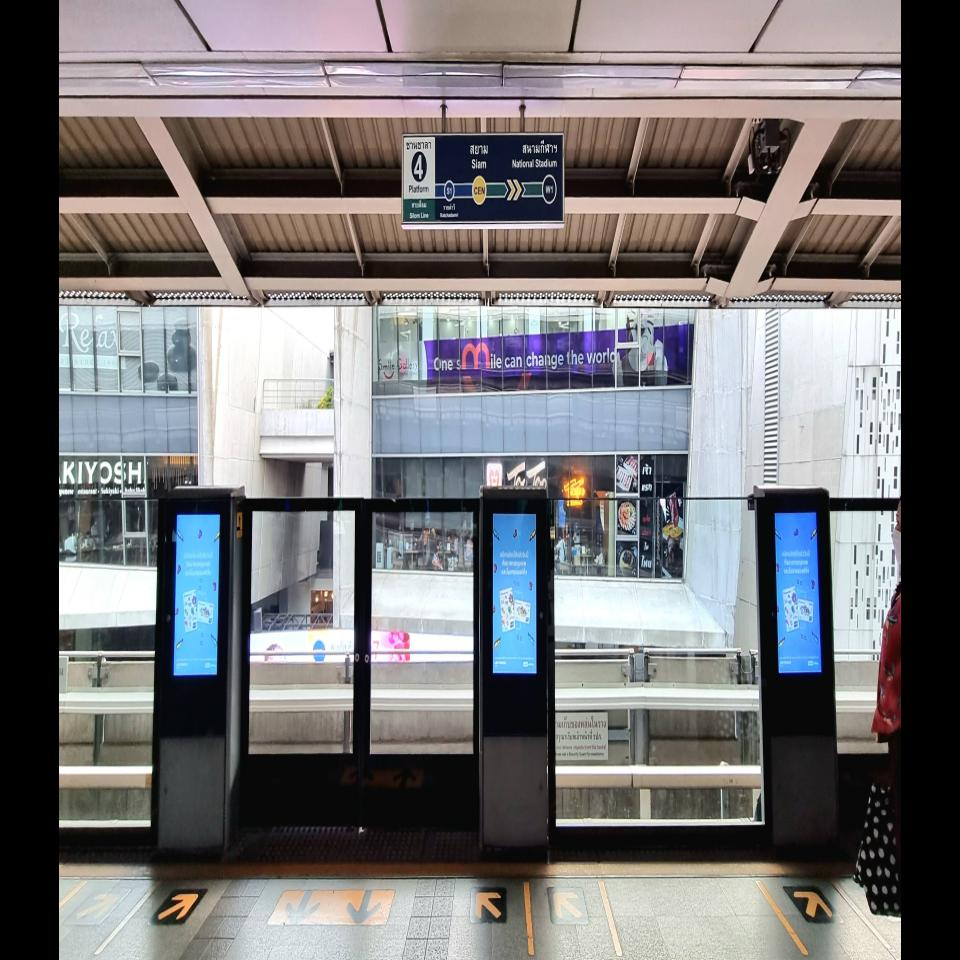signage: (444, 144, 557, 204)
